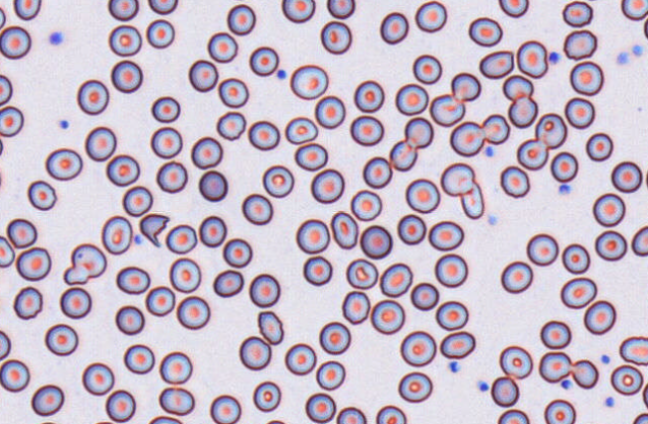PLT: (47, 30, 64, 46), (615, 50, 632, 65), (486, 210, 500, 227), (548, 50, 562, 66), (558, 181, 574, 194), (632, 43, 645, 57), (448, 360, 462, 373), (603, 395, 616, 409), (276, 67, 289, 80), (561, 378, 574, 391), (484, 146, 498, 158), (58, 118, 71, 130), (477, 380, 490, 392), (600, 352, 611, 365), (133, 233, 143, 245)
RBC: (289, 64, 328, 99), (70, 243, 108, 278), (400, 330, 436, 366), (449, 120, 484, 156), (15, 246, 51, 281), (405, 178, 440, 213), (370, 299, 405, 334), (295, 218, 330, 253), (569, 60, 604, 95), (45, 147, 82, 180), (101, 215, 132, 254), (440, 162, 475, 196), (310, 168, 344, 203), (429, 93, 465, 126), (76, 79, 109, 115), (535, 112, 567, 149), (560, 276, 597, 308), (176, 295, 210, 329), (238, 335, 271, 370), (359, 224, 392, 259), (379, 262, 412, 297), (583, 299, 616, 334), (592, 192, 625, 227), (169, 257, 201, 293), (44, 323, 78, 356), (499, 345, 532, 379), (434, 253, 467, 287), (105, 154, 140, 186), (84, 126, 116, 161), (330, 210, 358, 249), (81, 362, 114, 395), (318, 321, 351, 354), (500, 260, 533, 293), (159, 351, 192, 384), (262, 164, 294, 198), (248, 273, 280, 307), (428, 220, 463, 251), (397, 371, 432, 402), (538, 351, 571, 383), (108, 24, 141, 56), (59, 286, 91, 319), (395, 83, 428, 115), (156, 160, 188, 193), (414, 0, 447, 32), (284, 342, 316, 375), (31, 384, 64, 416), (110, 60, 142, 93), (526, 233, 558, 266), (610, 160, 642, 193), (594, 229, 627, 261), (190, 136, 222, 169), (0, 25, 31, 59), (563, 29, 597, 60), (349, 115, 383, 146), (468, 16, 502, 47), (320, 20, 351, 54), (158, 386, 194, 415), (439, 330, 475, 359), (516, 138, 548, 170), (350, 189, 382, 221), (241, 193, 273, 225), (150, 126, 182, 158), (610, 364, 643, 395), (345, 258, 378, 289), (564, 96, 595, 129), (314, 95, 345, 128), (353, 79, 384, 112), (304, 392, 336, 423), (165, 223, 197, 254), (0, 359, 30, 392), (499, 165, 529, 198), (105, 389, 135, 422), (188, 59, 218, 92), (435, 300, 468, 330), (247, 120, 280, 150), (116, 265, 150, 294), (13, 285, 42, 319), (341, 290, 370, 324), (294, 142, 328, 171), (450, 71, 481, 102), (6, 217, 37, 248), (507, 96, 537, 128), (362, 156, 392, 188), (207, 31, 237, 63), (379, 11, 408, 44), (284, 116, 318, 144), (459, 181, 484, 219), (145, 285, 175, 316), (123, 344, 154, 374), (122, 185, 152, 216), (218, 77, 248, 108), (222, 237, 252, 268), (404, 116, 433, 148), (252, 380, 281, 412), (209, 394, 241, 423), (397, 213, 426, 245), (539, 320, 571, 349), (198, 169, 227, 201), (226, 3, 255, 35), (315, 360, 345, 390), (412, 54, 442, 84), (302, 255, 332, 285), (249, 46, 279, 76), (481, 113, 510, 144), (490, 376, 519, 407), (115, 304, 144, 335), (27, 179, 56, 210), (561, 243, 590, 274), (389, 139, 417, 171), (198, 215, 226, 247), (257, 310, 283, 344), (216, 111, 246, 140), (570, 358, 598, 389), (212, 269, 243, 297), (550, 151, 578, 182), (145, 19, 174, 48), (619, 335, 647, 365), (562, 0, 593, 27), (543, 398, 576, 423), (410, 282, 439, 310), (585, 132, 613, 161), (151, 95, 180, 122), (281, 0, 315, 23), (0, 105, 23, 136), (107, 0, 138, 20), (375, 404, 406, 423), (13, 0, 41, 20), (326, 0, 355, 19), (498, 0, 529, 17), (621, 0, 647, 20), (336, 406, 366, 423), (631, 225, 647, 256), (0, 235, 15, 268), (497, 408, 529, 423), (147, 0, 178, 14), (0, 74, 12, 105), (0, 329, 10, 360), (147, 415, 182, 423), (632, 412, 647, 423), (642, 382, 648, 408), (0, 6, 6, 28), (643, 16, 648, 39), (92, 420, 115, 424), (265, 419, 286, 423), (0, 164, 3, 190), (645, 165, 648, 189), (37, 421, 60, 424), (0, 137, 3, 156)
Schistocyte: (137, 212, 172, 249), (516, 41, 548, 79), (479, 50, 514, 80), (502, 74, 534, 100), (65, 267, 89, 286)
